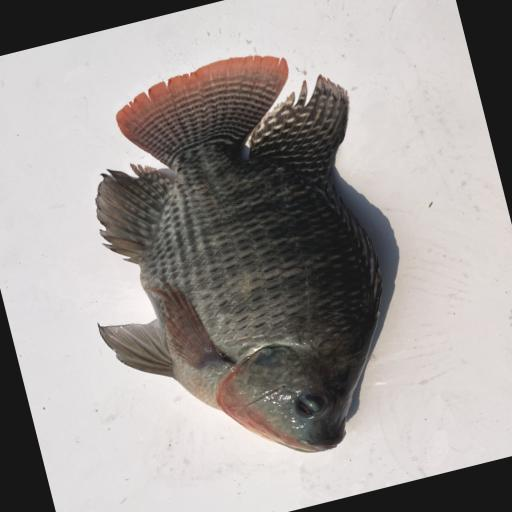Tilapia: (43, 33, 431, 498)
